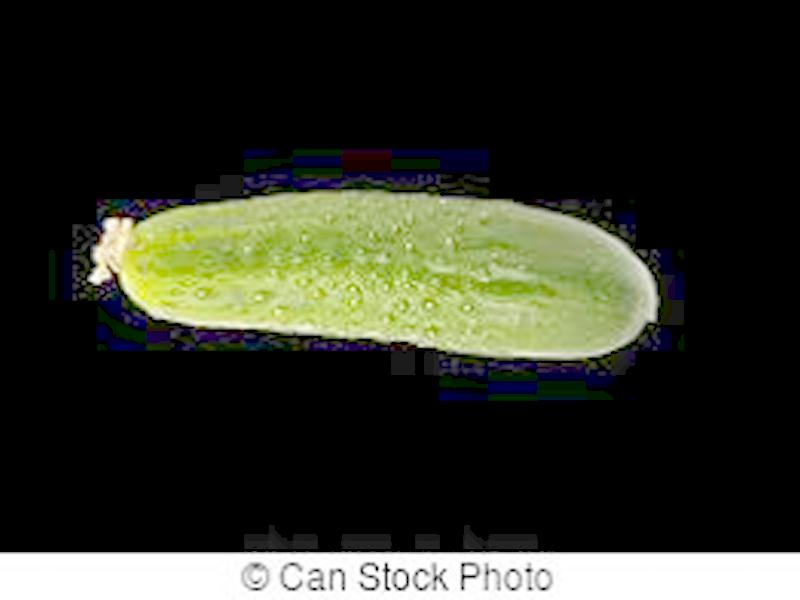Cucumber: (89, 191, 656, 356)
